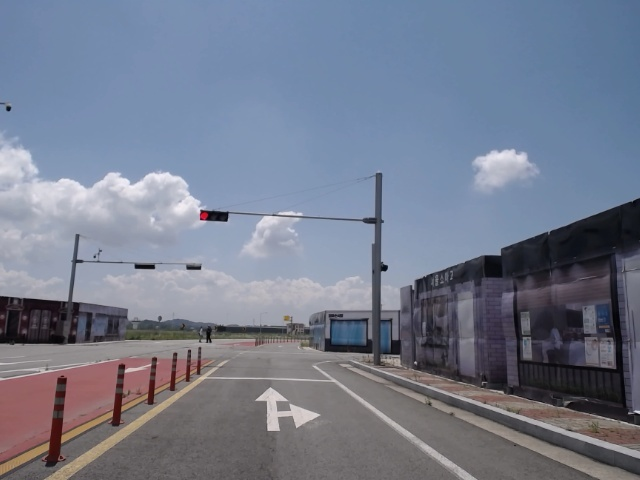red_3: (198, 209, 229, 222)
